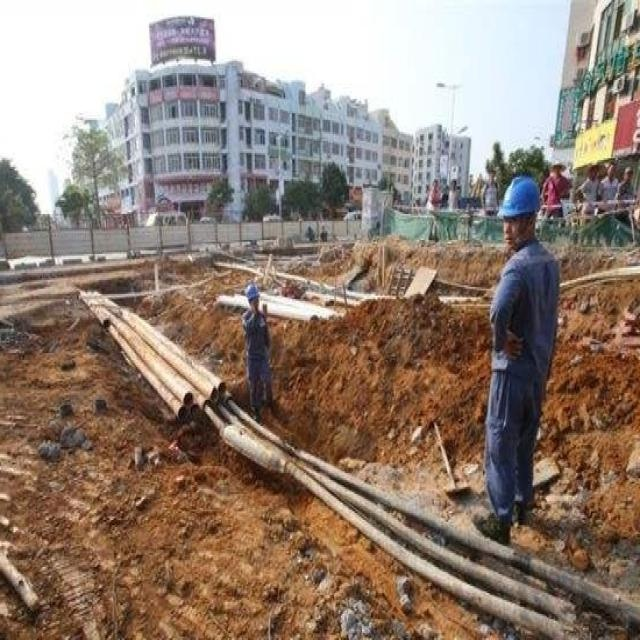Con_Casco: (501, 174, 542, 248)
